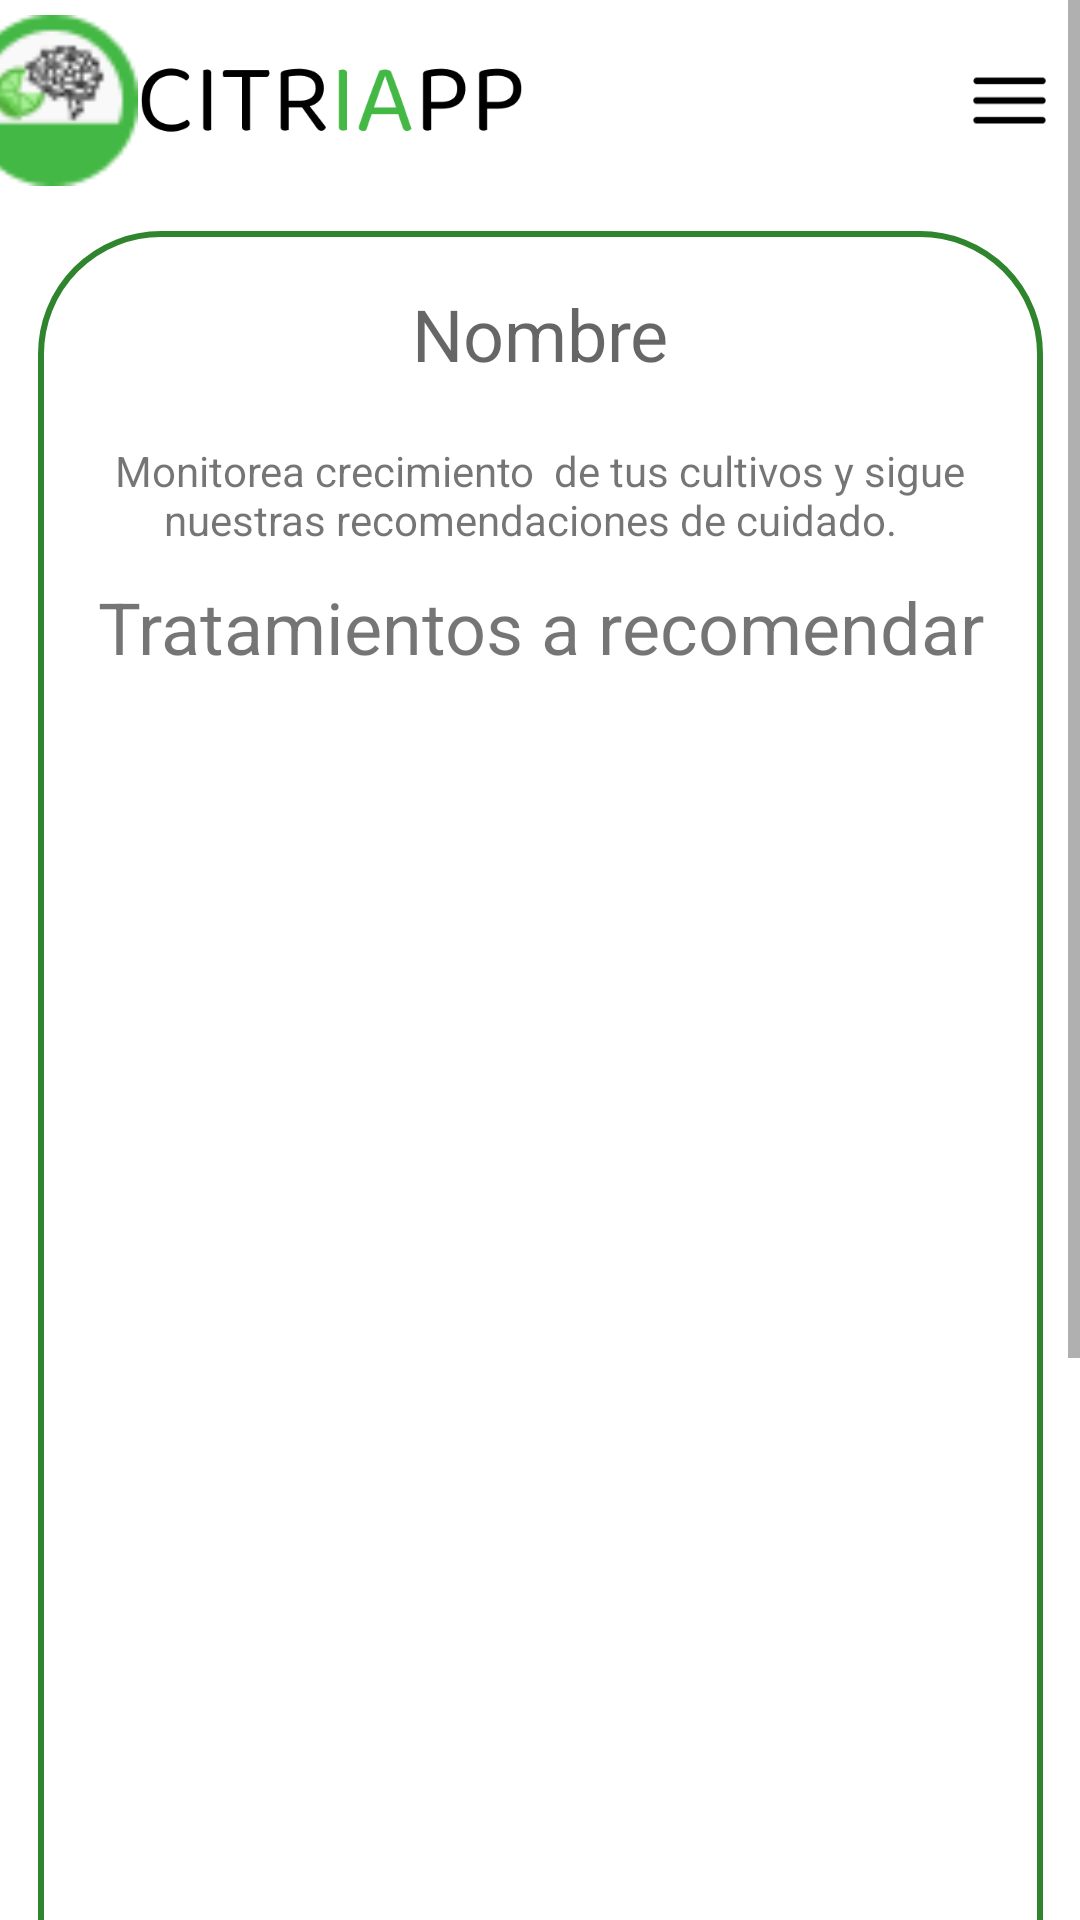

Where icons sit on this 1080w x 1920h app screen, as bbox=[x1, y1, x2, y2]:
menu: bbox=[973, 77, 1046, 124]
